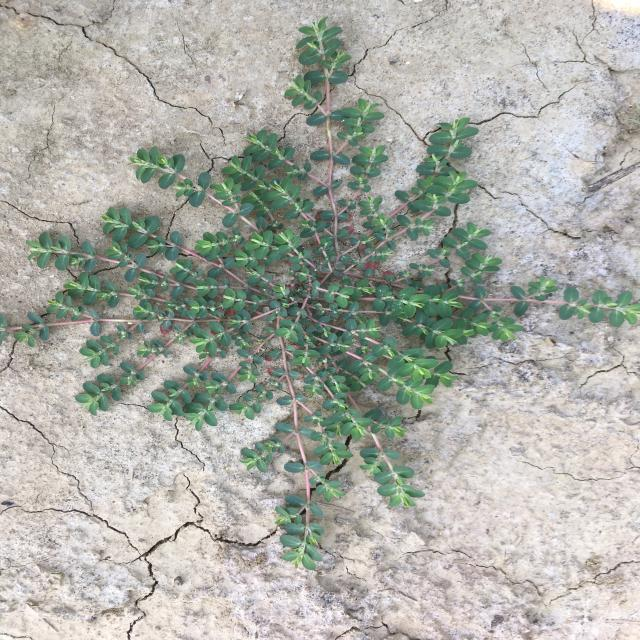SpottedSpurge: (1, 14, 640, 571)
